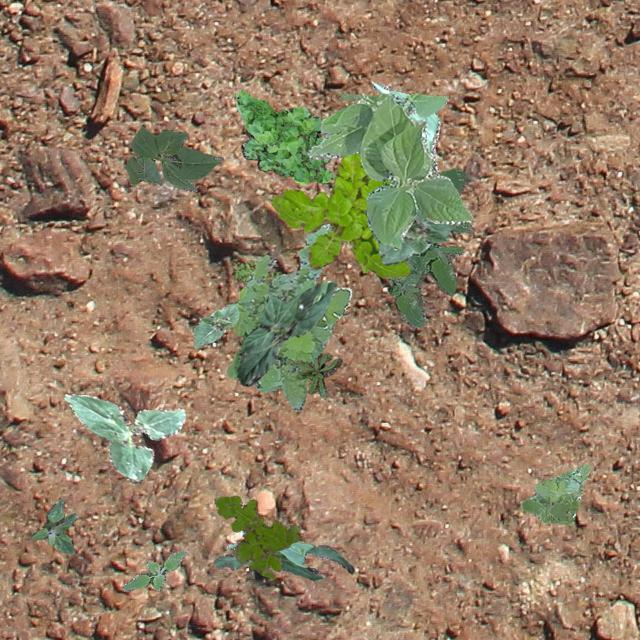crop: (306, 92, 472, 248), (64, 394, 184, 482), (237, 280, 336, 384), (370, 81, 440, 175), (125, 124, 222, 190), (212, 540, 352, 580), (378, 208, 458, 264), (192, 300, 238, 346), (358, 174, 370, 272)
weed: (227, 222, 351, 410), (270, 152, 408, 278), (388, 168, 472, 328), (235, 88, 332, 184), (212, 494, 298, 578), (520, 462, 588, 524), (31, 496, 76, 554), (121, 550, 186, 590), (294, 352, 342, 398), (232, 258, 280, 284)
